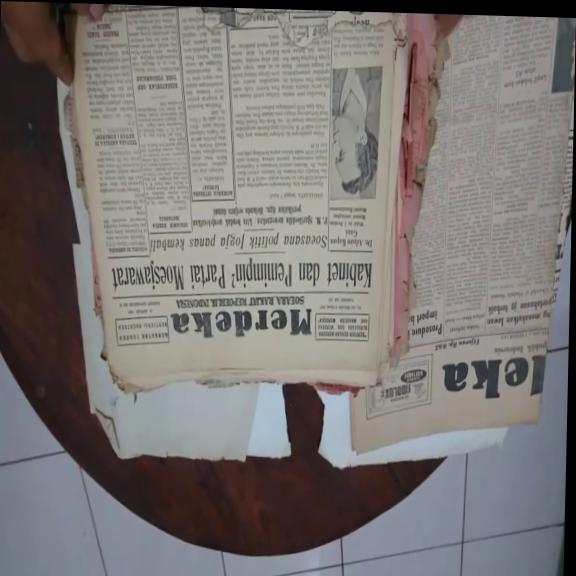Kertas: (110, 7, 410, 387), (346, 12, 547, 423)
